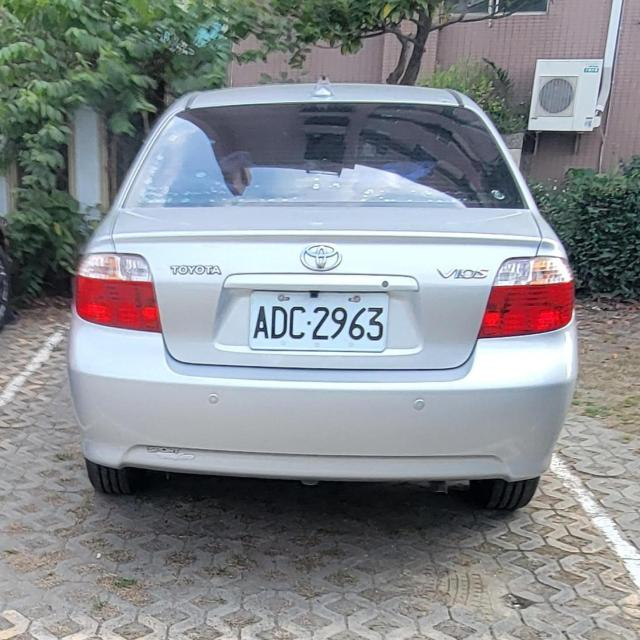W: (239, 284, 398, 358)
